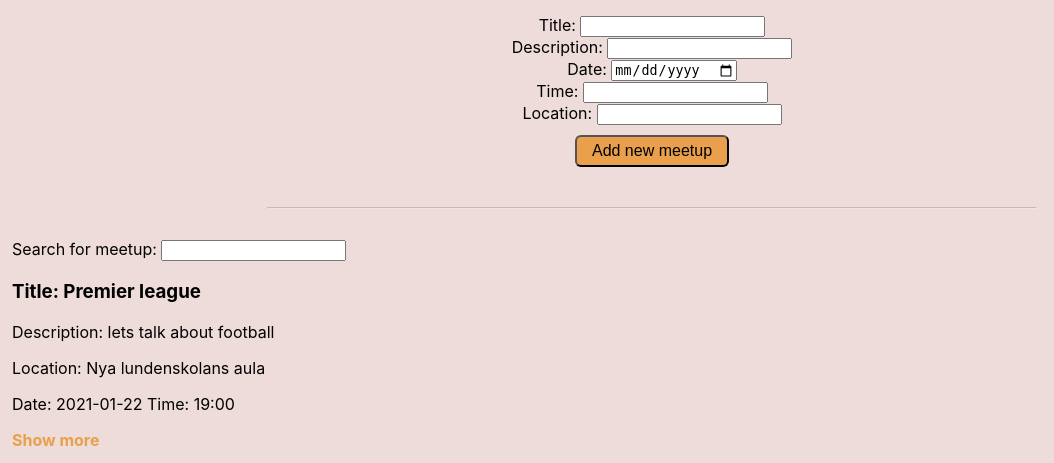
Test: tests for search on meetups › Search "grekland", should render 0 meetup
Type "grekland" into the field with test id "search-meetup" at (254, 251), box x1=161 y1=240 x2=346 y2=261
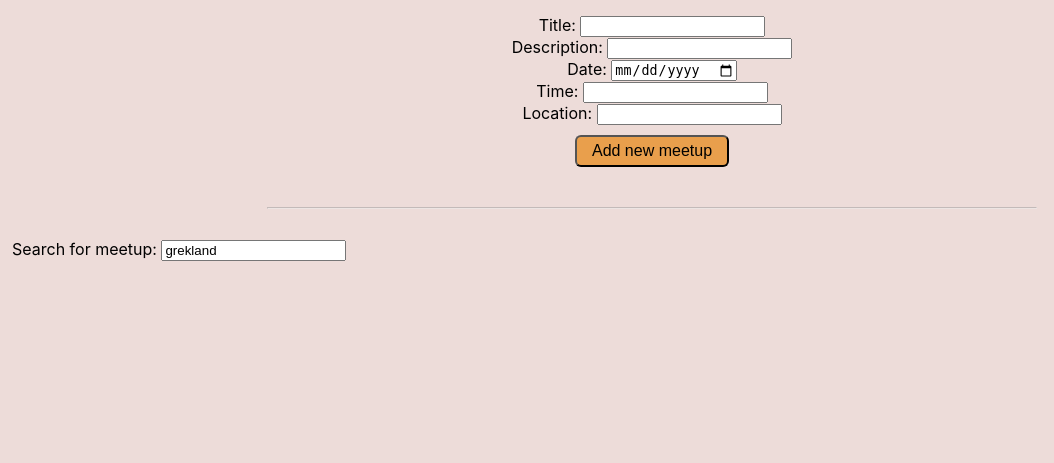
Check: no elements with test id "result-meetup" are shown
